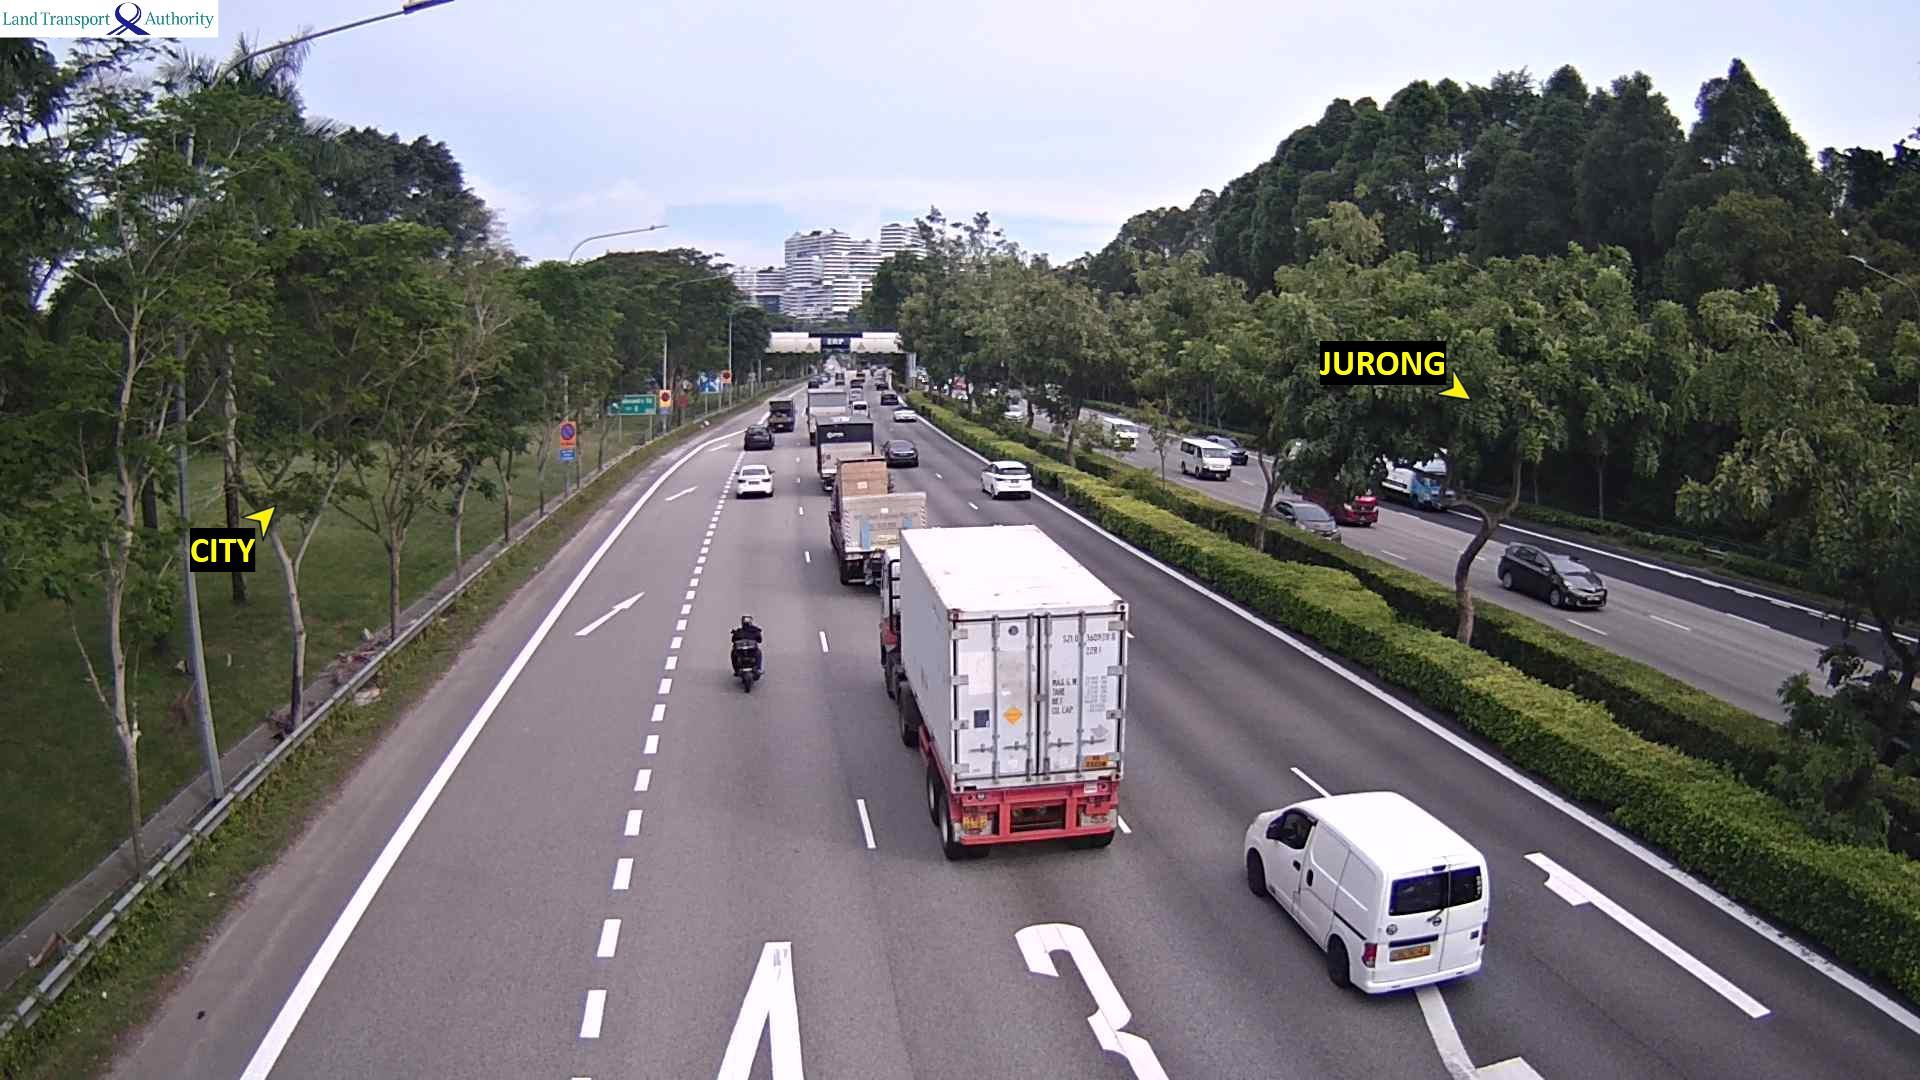cars: (1242, 768, 1491, 996), (1496, 541, 1607, 610), (1838, 664, 1919, 715), (1272, 497, 1340, 540), (1178, 436, 1232, 480), (979, 459, 1033, 499), (1334, 491, 1379, 525), (1204, 433, 1248, 465), (734, 462, 773, 497), (881, 437, 918, 466), (1105, 419, 1138, 450), (742, 424, 773, 449), (1272, 497, 1301, 519), (892, 406, 917, 422), (1004, 402, 1025, 421), (879, 389, 901, 405), (849, 398, 868, 415), (850, 389, 868, 406), (850, 378, 865, 392), (875, 382, 892, 392), (807, 377, 820, 389), (818, 375, 828, 382)
motorcycle: (729, 621, 764, 692)
trucks: (881, 521, 1133, 859), (827, 456, 927, 587), (1352, 443, 1467, 511), (816, 416, 875, 492), (808, 391, 850, 444), (765, 400, 794, 431), (835, 371, 846, 387), (855, 371, 867, 381)
